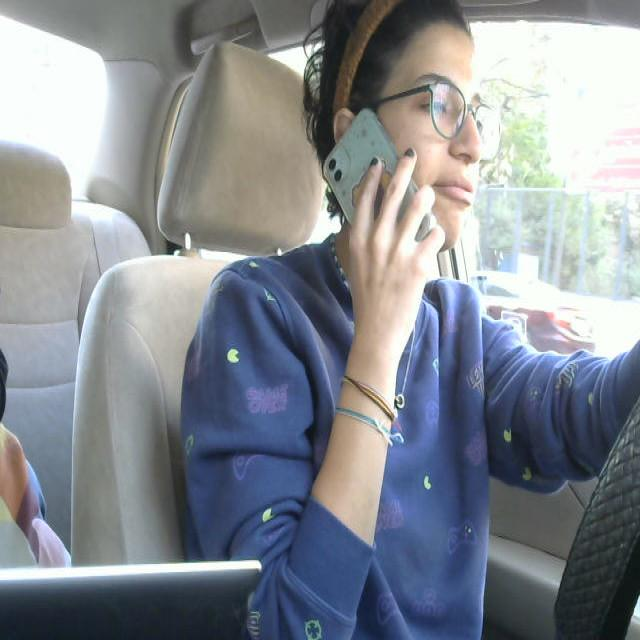mobile use: (319, 102, 445, 295)
